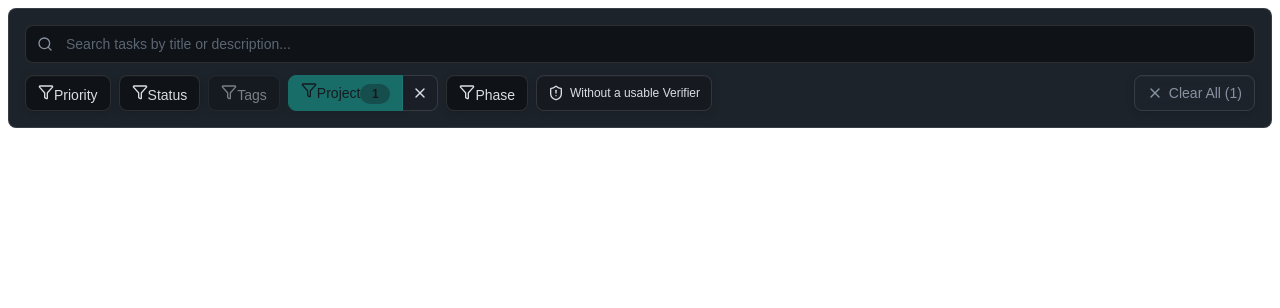
Test: the Phase list follows the Project filter › a Project with no Phases says so instead of showing an empty list
Click the button "Phase". click: (487, 93)
box: top-left (446, 75), bottom-right (528, 111)
Wait 20 ms
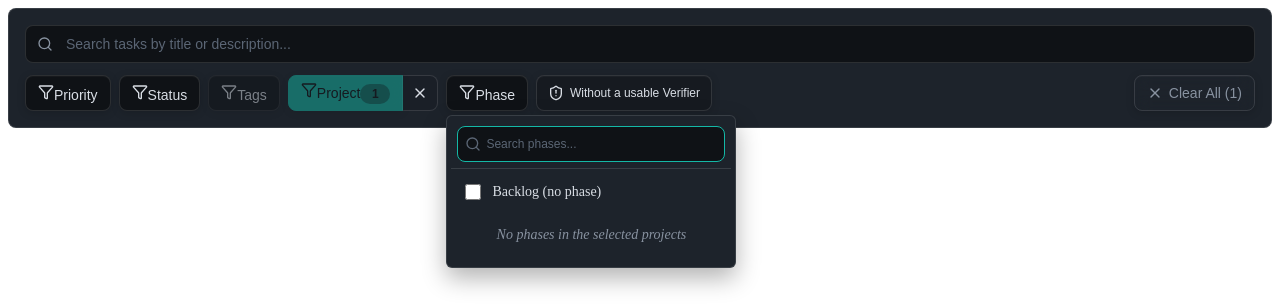
expect the text "No phases in the selected projects" is shown: met, box top-left (497, 227), bottom-right (686, 242)
